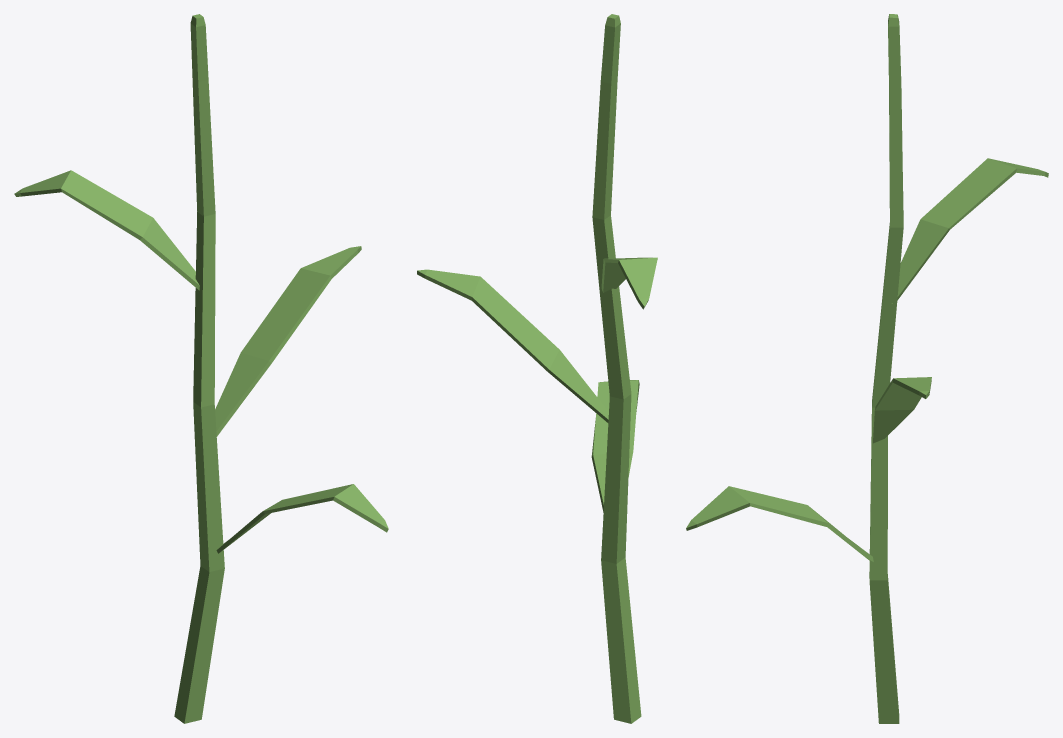
File: Corn_2.glb
The picture shows the model from 3 angles, left to right: view 1: azimuth 30°, elevation 25°; view 2: azimuth 150°, elevation 25°; view 3: azimuth 270°, elevation 25°; orthographic projection.
Visible parts, largest first — view 1: Corn_2; view 2: Corn_2; view 3: Corn_2.
Boxes of the visible parts, <box> form: Corn_2: <box>14,14,388,723</box>; Corn_2: <box>417,14,657,723</box>; Corn_2: <box>686,14,1048,723</box>.
Size of the model in its own units: 0.2837 by 0.6587 by 0.3051.
